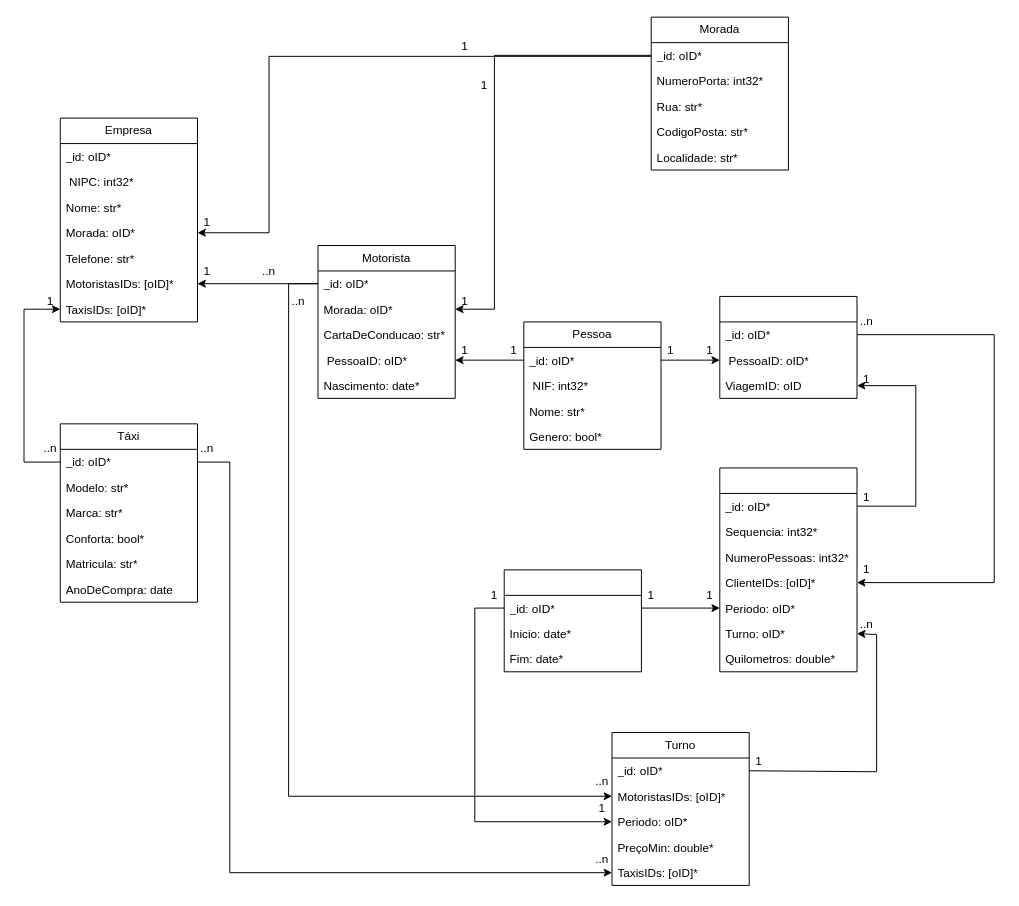
The diagram is 1019 pixels wide and 906 high, and some of its shapes have lost their labels. The shapes that lost their labels are listed below. From the top down, each one's box as (x1, y1, x2, y2) in pixels, then its label:
(719, 295, 857, 398): Cliente
(719, 467, 857, 672): Viagem
(503, 569, 641, 672): Periodo
